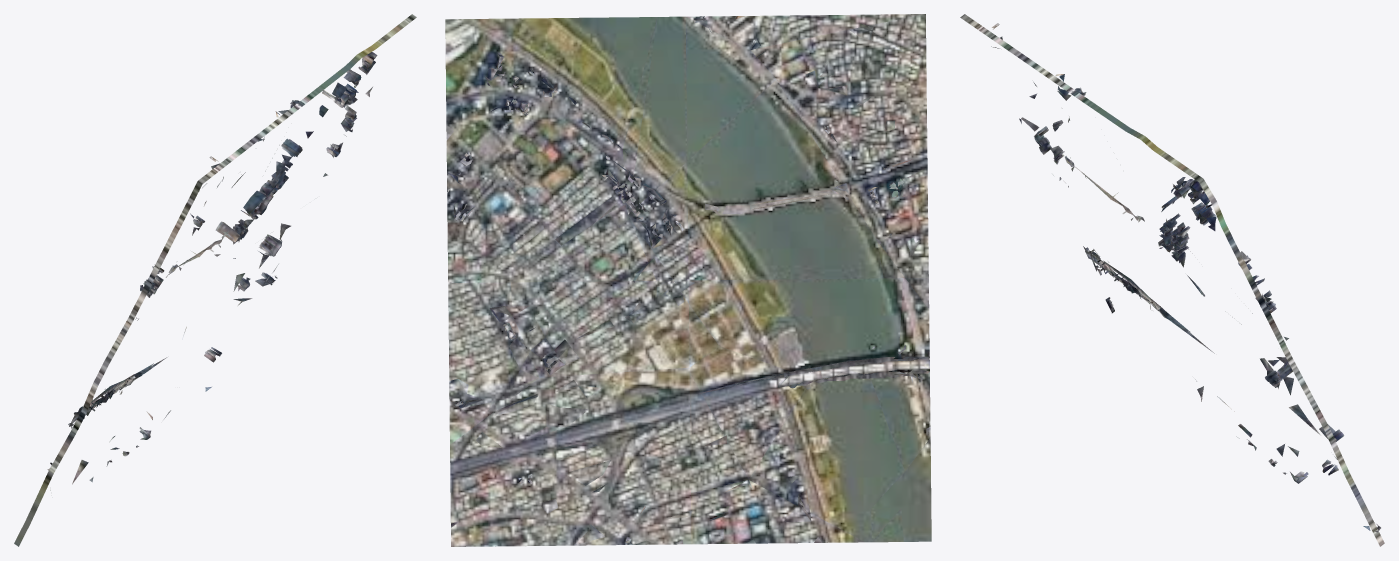
The picture shows the model from 3 angles, left to right: view 1: azimuth 30°, elevation 25°; view 2: azimuth 150°, elevation 25°; view 3: azimuth 270°, elevation 25°; orthographic projection. The views are drawn at different scales.
Bounding box in the file's own units: 2445 × 2244 × 2063.
Materials: 1 (1 with a texture image).
